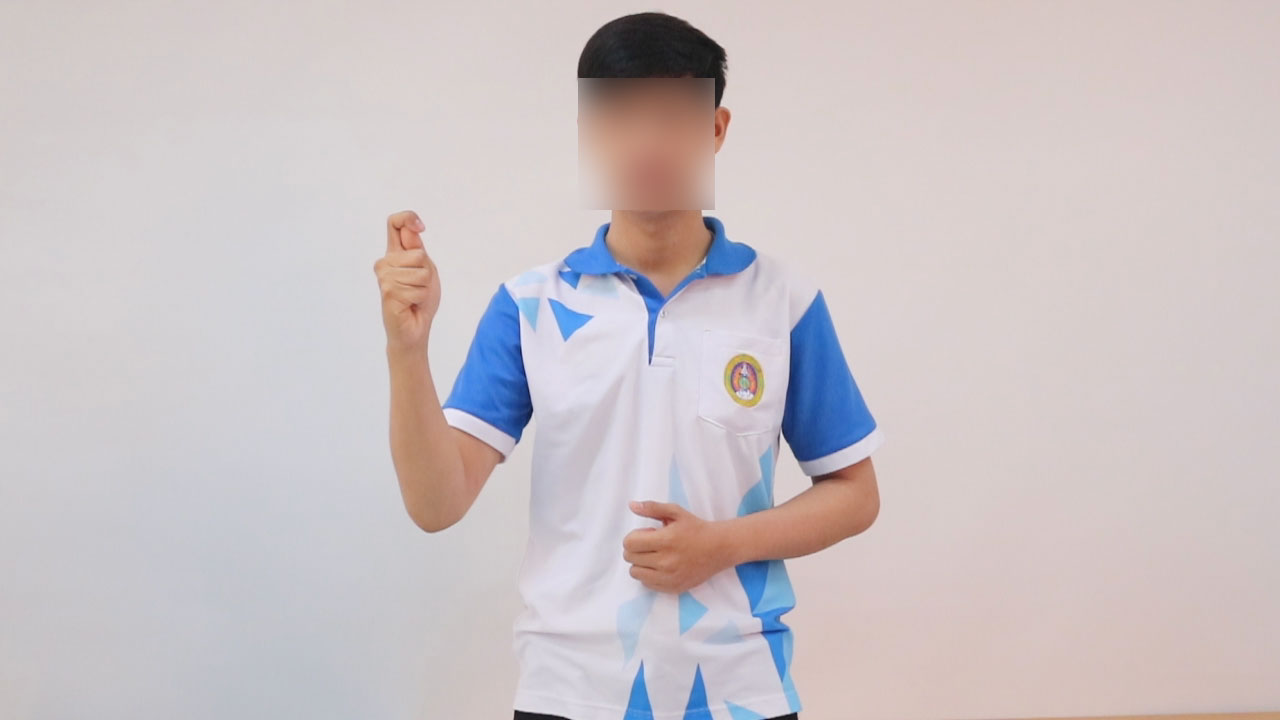or: (367, 206, 446, 355)
